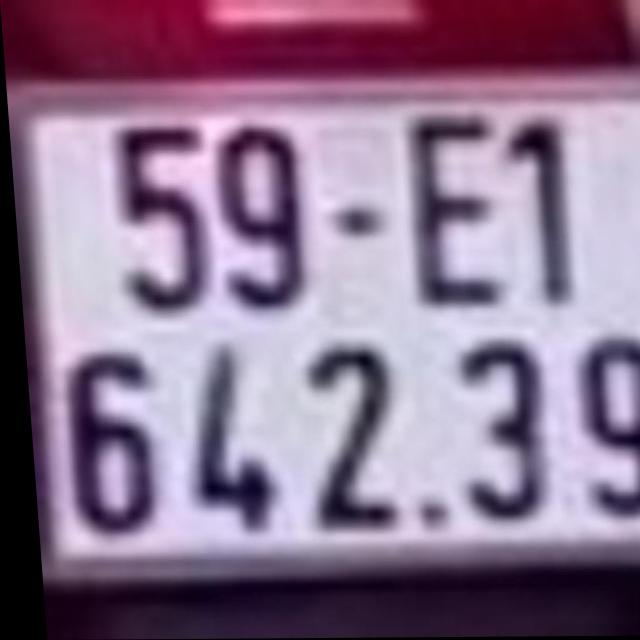1: (511, 118, 580, 303)
2: (282, 351, 396, 526)
3: (441, 331, 540, 523)
4: (179, 343, 276, 543)
5: (111, 120, 209, 312)
6: (56, 350, 150, 539)
9: (209, 123, 311, 313), (570, 334, 640, 526)
E: (406, 111, 508, 323)
